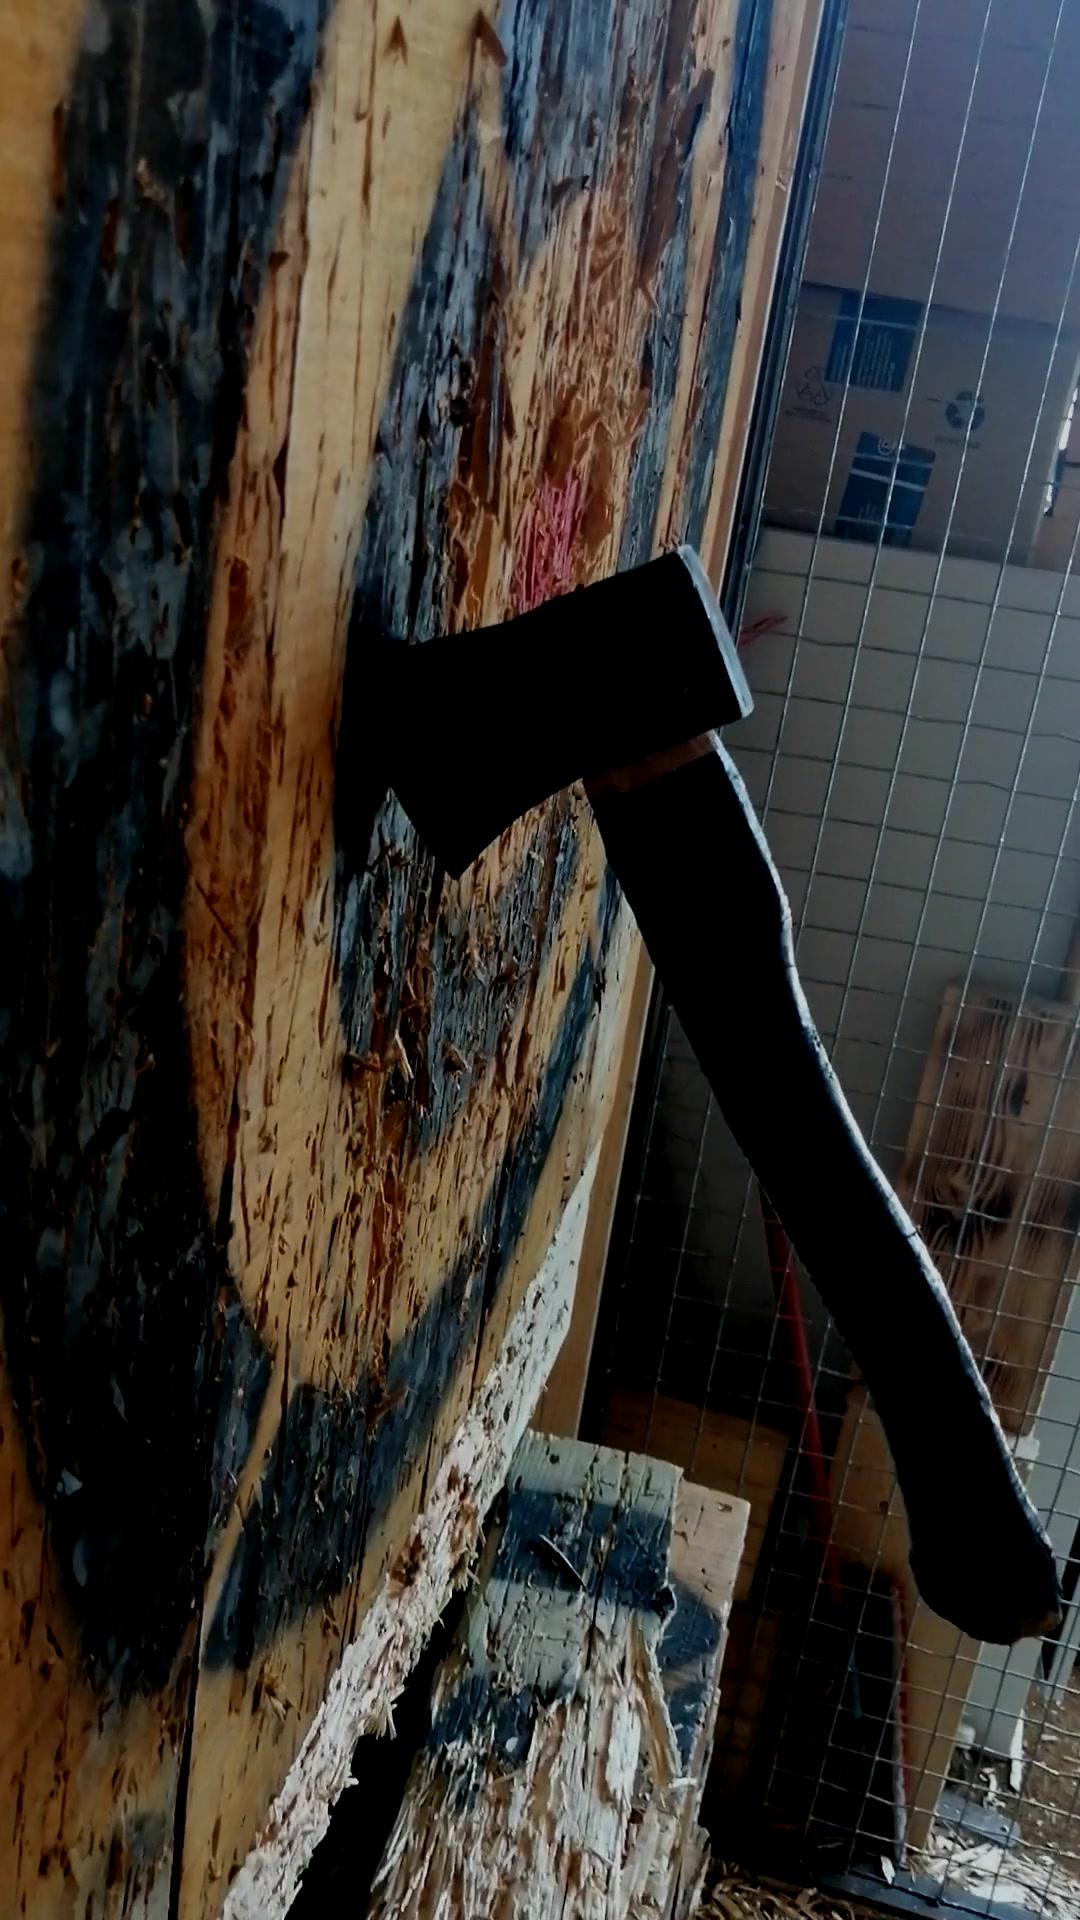Hand Axe: (410, 543, 758, 884)
